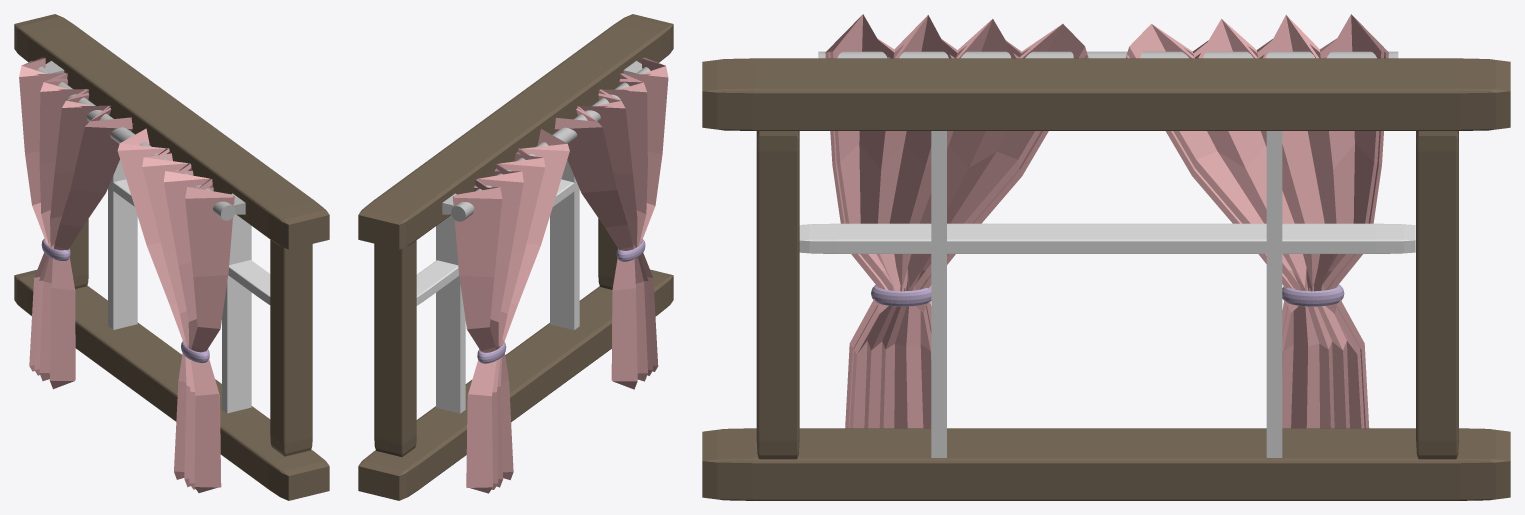
Rendered from WindowBig.fbx.
The picture shows the model from 3 angles, left to right: view 1: azimuth 30°, elevation 25°; view 2: azimuth 150°, elevation 25°; view 3: azimuth 270°, elevation 25°; orthographic projection. The views are drawn at different scales.
Visible parts, largest first — view 1: Plane, Cube.007, Cube.008, Cube.010, Cube.012, Cube.013, Cube.011, Cylinder, Cube.009; view 2: Plane, Cube.007, Cube.008, Cube.009, Cube.013, Cube.012, Cube.011, Cylinder, Cube.010; view 3: Plane, Cube.007, Cube.008, Cube.011, Cube.010, Cube.009, Cube.013, Cube.012, Cylinder, Torus.001, Torus.
Part boxes in pixels (x1,y1,x2,y2): Plane: [19, 57, 234, 492]; Cube.007: [14, 14, 329, 249]; Cube.008: [14, 270, 329, 500]; Cube.010: [270, 239, 312, 456]; Cube.012: [222, 214, 251, 413]; Cube.013: [108, 159, 137, 329]; Cube.011: [108, 179, 270, 304]; Cylinder: [28, 61, 235, 220]; Cube.009: [69, 219, 88, 288]; Plane: [452, 57, 668, 493]; Cube.007: [358, 14, 673, 249]; Cube.008: [358, 269, 673, 500]; Cube.009: [374, 240, 416, 456]; Cube.013: [436, 215, 465, 413]; Cube.012: [550, 160, 579, 329]; Cube.011: [416, 179, 578, 305]; Cylinder: [451, 67, 650, 221]; Cube.010: [598, 218, 617, 289]; Plane: [825, 14, 1388, 428]; Cube.007: [702, 58, 1510, 130]; Cube.008: [702, 428, 1510, 500]; Cube.011: [799, 223, 1415, 253]; Cube.010: [756, 131, 799, 459]; Cube.009: [1416, 131, 1458, 459]; Cube.013: [1266, 131, 1282, 457]; Cube.012: [931, 131, 946, 457]; Cylinder: [818, 51, 1398, 58]; Torus.001: [1282, 284, 1344, 306]; Torus: [871, 285, 931, 306].
Bounding box in the file's own units: 272 × 862 × 1379.
